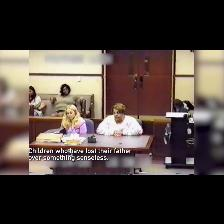person: (97, 104, 142, 136), (51, 84, 80, 116), (61, 105, 87, 134), (29, 86, 42, 116), (174, 99, 188, 112), (184, 101, 194, 110)
